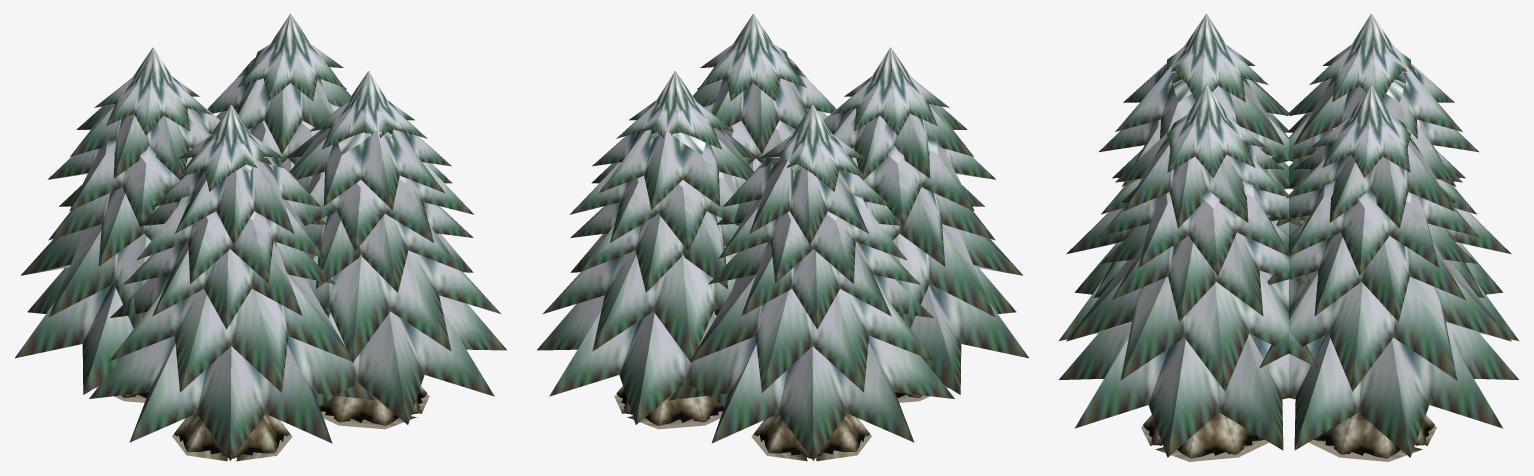
The model's file is Poly_Pine_Tree_04_Snow_Multiple.obj.
The picture shows the model from 3 angles, left to right: view 1: azimuth 30°, elevation 25°; view 2: azimuth 150°, elevation 25°; view 3: azimuth 270°, elevation 25°; orthographic projection. The views are drawn at different scales.
Parts seen in each view (by area): view 1: Cube.003_Cube.009; view 2: Cube.003_Cube.009; view 3: Cube.003_Cube.009.
Boxes of the visible parts, left/top/right/bottom form: Cube.003_Cube.009: left=15, top=14, right=506, bottom=461; Cube.003_Cube.009: left=537, top=14, right=1028, bottom=461; Cube.003_Cube.009: left=1058, top=14, right=1519, bottom=461.
Size of the model in its own units: 5.56 by 4.66 by 5.57.
1 material, 1 textured.
